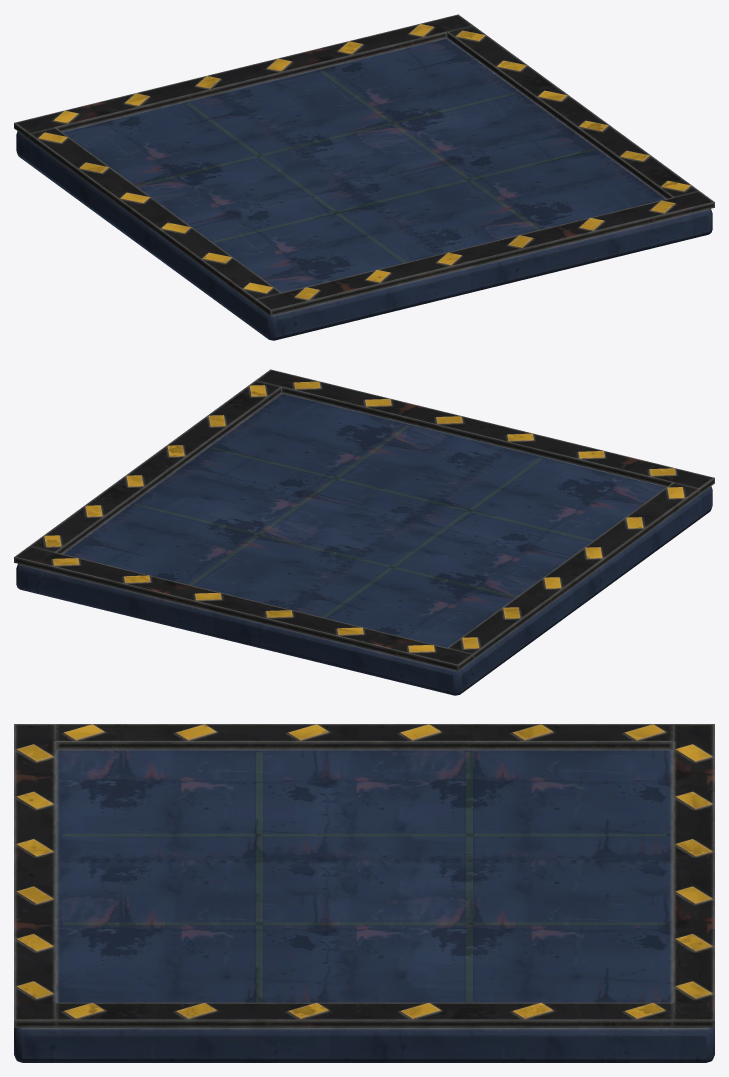
Rendered from hull_composite_platform_space.glb.
3 renders of one model, top to bottom at view 1: azimuth 30°, elevation 25°; view 2: azimuth 150°, elevation 25°; view 3: azimuth 270°, elevation 25°, orthographic. The views are drawn at different scales.
Parts seen in each view (by area): view 1: te_hull_composite_platform_space; view 2: te_hull_composite_platform_space; view 3: te_hull_composite_platform_space.
Boxes of the visible parts, x1,y1,x2,y2 form: te_hull_composite_platform_space: (14, 14, 714, 340); te_hull_composite_platform_space: (14, 369, 714, 695); te_hull_composite_platform_space: (14, 724, 714, 1062).
Size of the model in its own units: 1 by 0.0735 by 1.
Materials: 1 (1 with a texture image).
